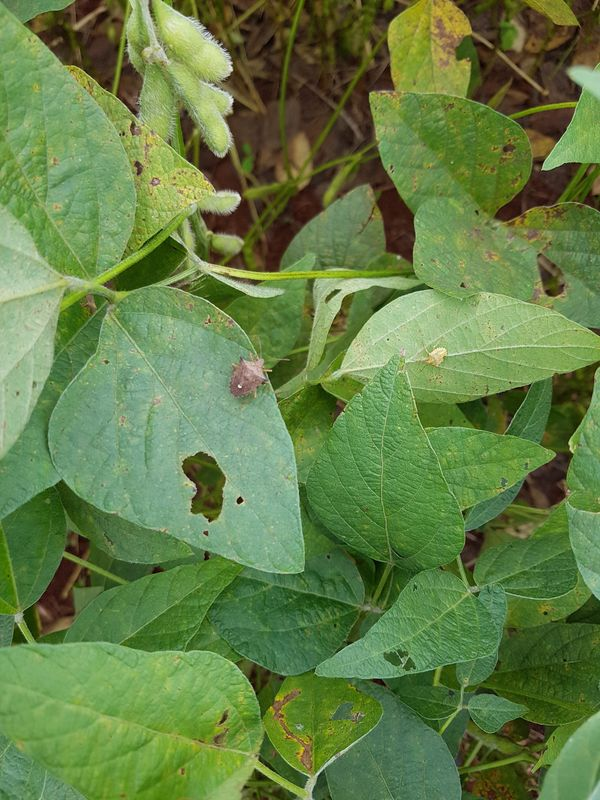Euschistus_heros_adulto: (224, 339, 291, 402)
Euschistus_heros_ninfa: (417, 339, 452, 372)
